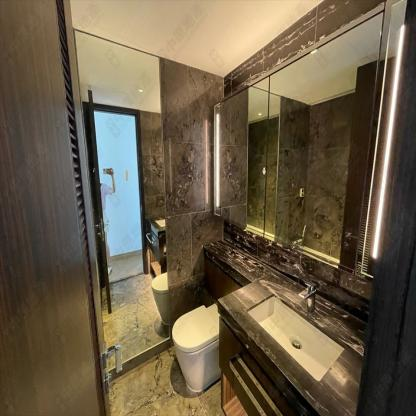Faucet: (298, 276, 319, 316)
Toilet: (171, 300, 221, 394)
Toilet Sink: (245, 292, 346, 381)
